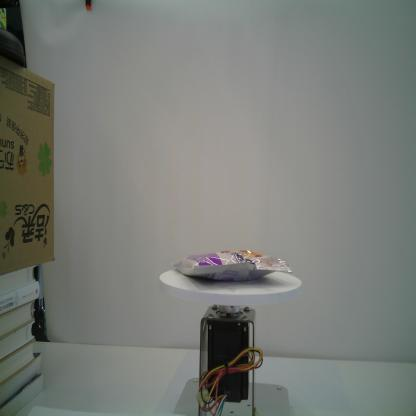Instant Drink: (171, 249, 293, 283)
